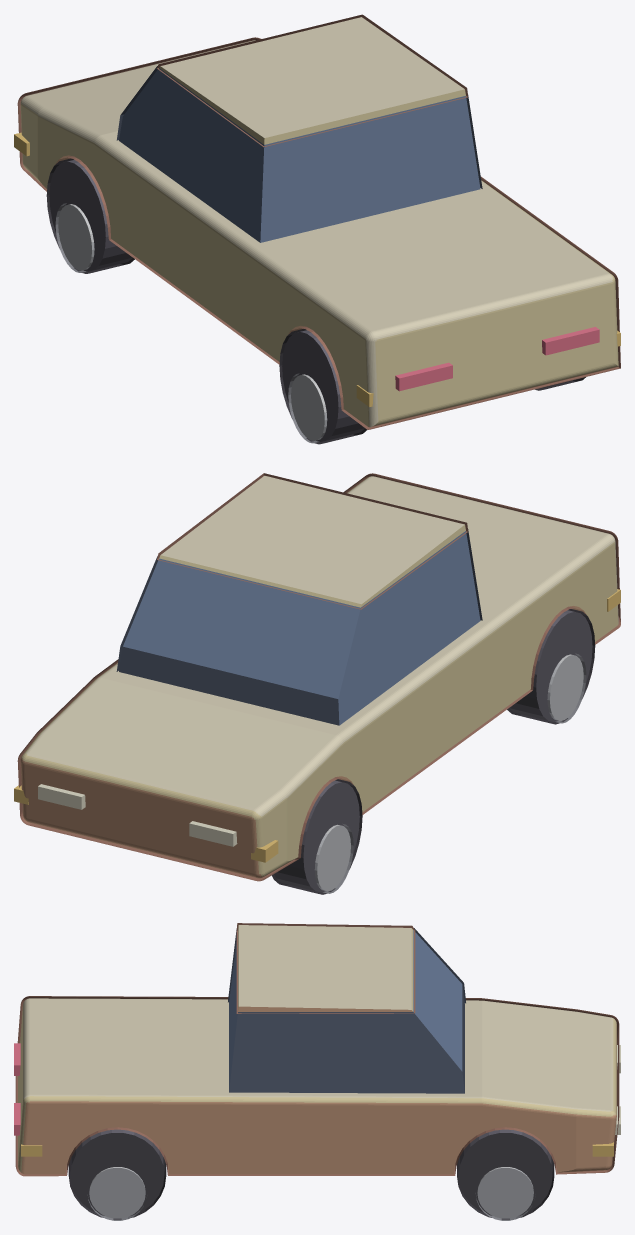
File: traffic_pickup_0.glb
3 views of the same model, one above another, from view 1: azimuth 30°, elevation 25°; view 2: azimuth 150°, elevation 25°; view 3: azimuth 270°, elevation 25° (orthographic). The views are drawn at different scales.
Parts seen in each view (by area): view 1: car, blink; view 2: car, blink; view 3: car, blink.
Boxes of the visible parts, box(x1,y1,x2,y2) form: car: box(17, 14, 620, 444); blink: box(14, 132, 620, 406); car: box(17, 473, 620, 894); blink: box(14, 589, 620, 862); car: box(14, 923, 620, 1220); blink: box(21, 1142, 613, 1156).
Bounding box in the file's own units: 2.15 × 1.9 × 5.16.
